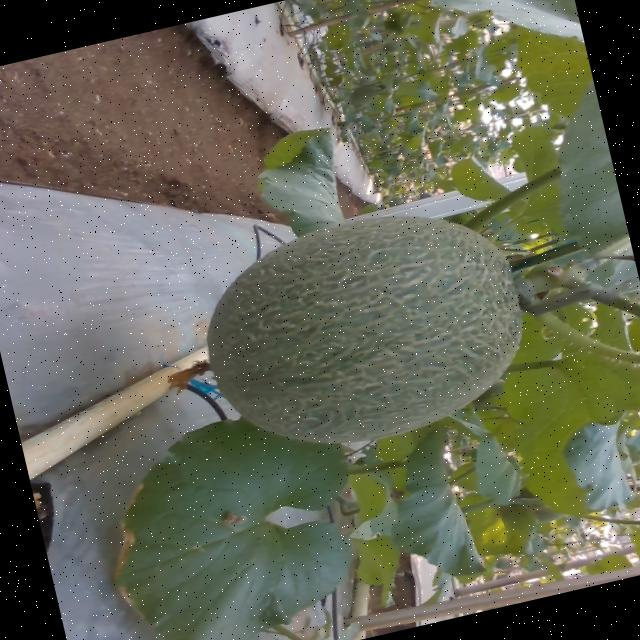melon: (207, 217, 521, 444)
